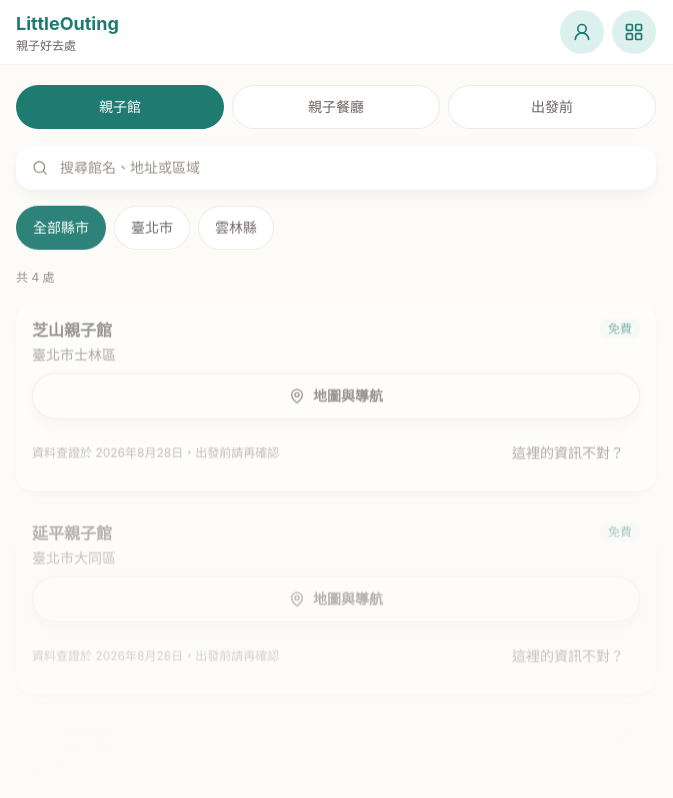
Test: 各縣市使用規則 › 沒查證過的縣市說沒查證，不會借用別的縣市的規則
Click the button "雲林縣" at (236, 228), box [198,206,274,250]
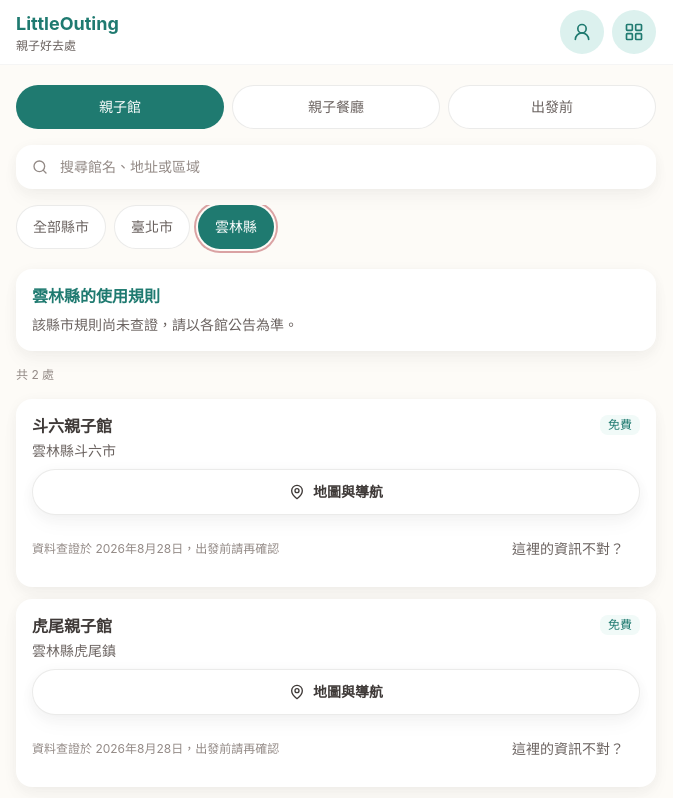
Expected: the text "該縣市規則尚未查證，請以各館公告為準。" is shown, [32,316,298,333]
